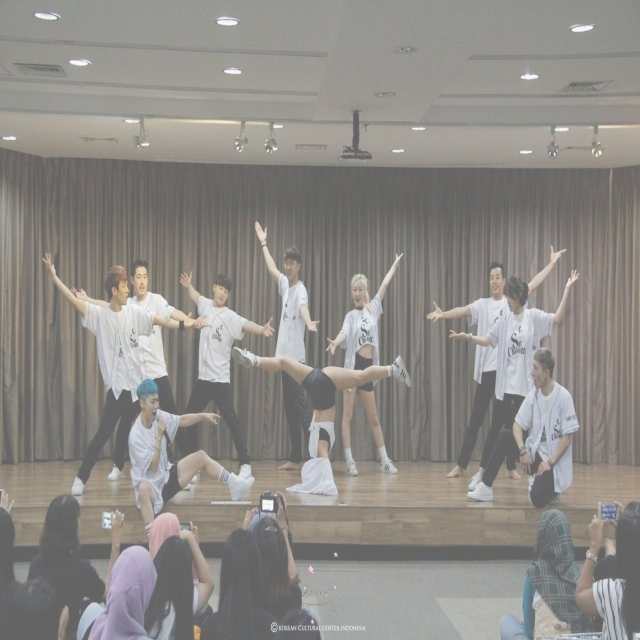pessoa: (38, 250, 202, 497), (424, 242, 567, 486), (68, 256, 212, 482), (448, 265, 580, 492), (231, 345, 413, 498), (174, 268, 276, 488), (127, 376, 256, 540), (324, 251, 406, 477), (466, 346, 580, 508), (252, 218, 324, 472), (24, 492, 124, 640), (498, 508, 588, 640), (0, 482, 68, 640), (574, 498, 640, 640), (200, 526, 278, 640), (143, 528, 216, 640), (76, 542, 159, 640), (148, 510, 210, 620), (278, 534, 326, 640), (250, 517, 302, 611), (233, 492, 289, 534), (586, 512, 618, 584)
